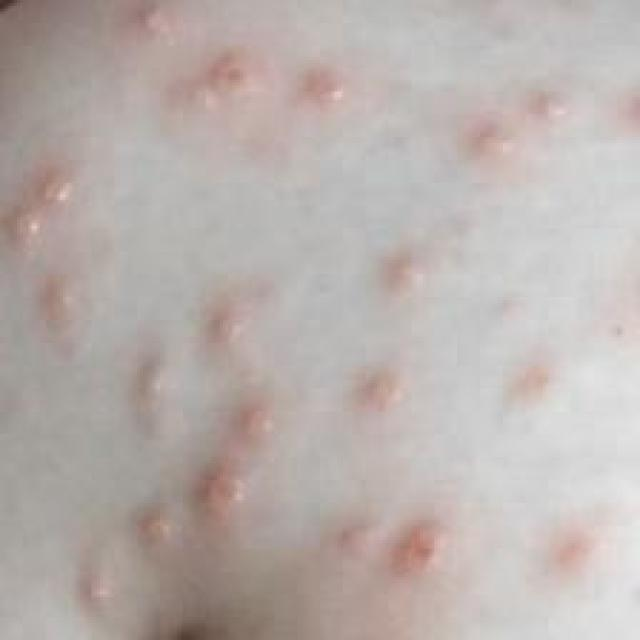others: (0, 0, 617, 620)
